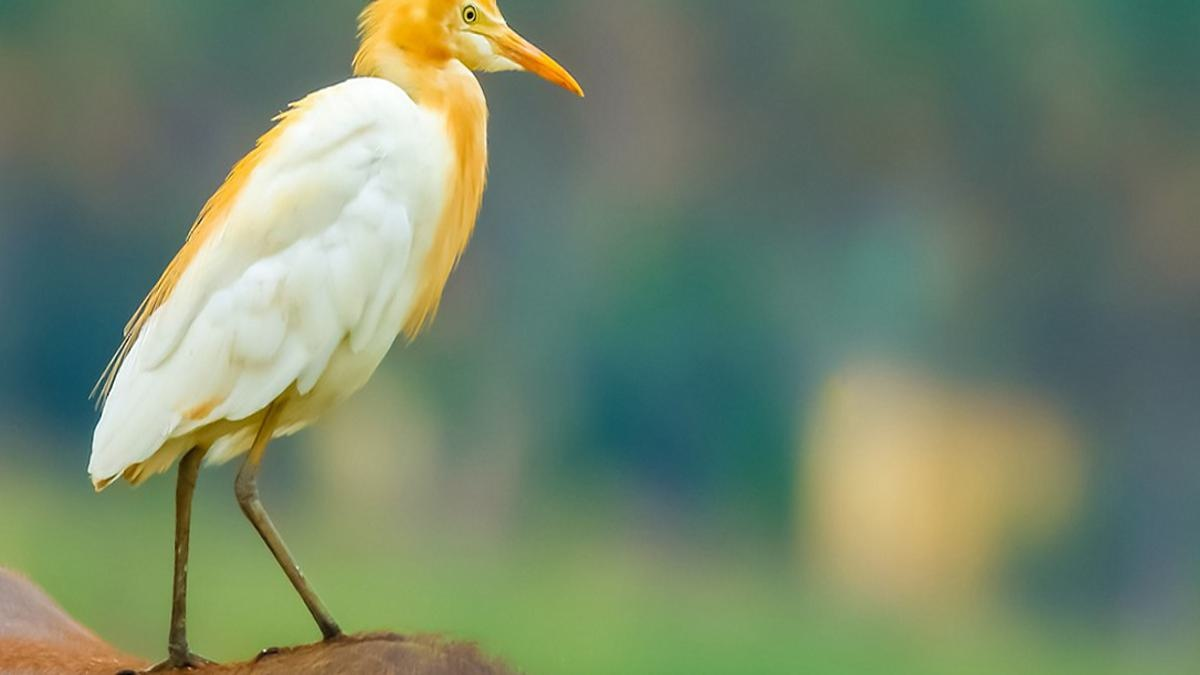egret: (65, 2, 601, 675)
